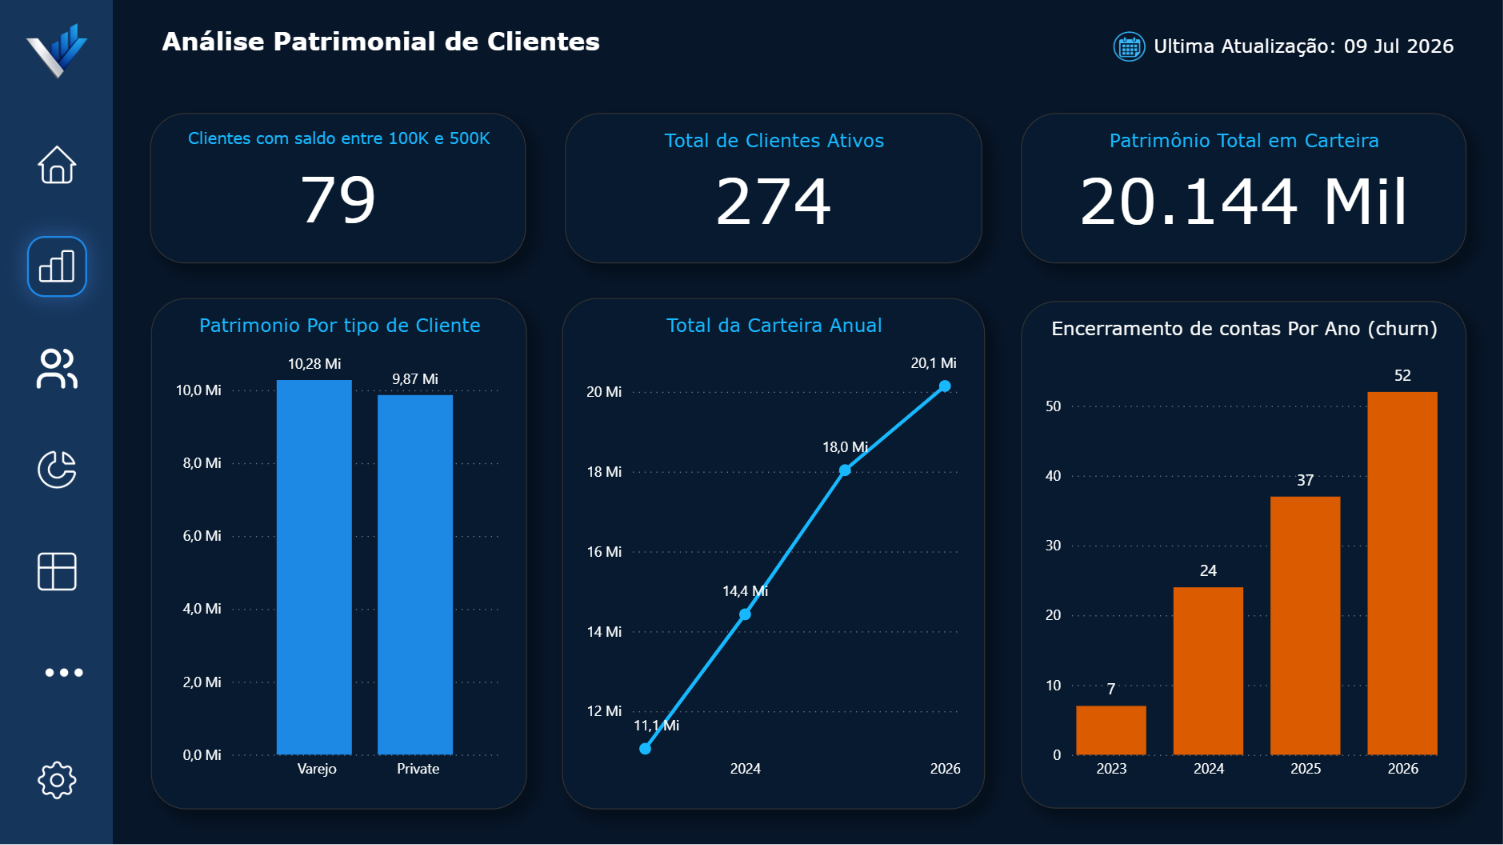

This screenshot's page, from the dashboard's own definition file:
{"tool":"powerbi","page":{"name":"Relatório","canvas":[1280,720],"ordinal":0},"visuals":[{"type":"card","title":"Total de Clientes Ativos","fields":{"Values":["saldos_mensais.Total_Clientes_Ativos"]},"box":[481,96,355,128],"z":0},{"type":"textbox","box":[127.5,11,414.4,49.8],"z":1000},{"type":"card","title":"Clientes com saldo entre 100K e 500K","fields":{"Values":["saldos_mensais.Clientes_100k_500k"]},"box":[128,96,320,128],"z":2000},{"type":"card","title":"Patrimônio Total em Carteira","fields":{"Values":["saldos_mensais.Patrimonio_Total_Atual"]},"box":[869,96,379,128],"z":3000},{"type":"columnChart","title":"Patrimonio Por tipo de Cliente","fields":{"Category":["clientes.tipo_cliente"],"Y":["saldos_mensais.Patrimonio_Total_Atual"]},"box":[128.2,253.4,320.1,435],"z":4000},{"type":"lineChart","title":"Total da Carteira Anual ","fields":{"Category":["saldos_mensais.Ano"],"Y":["saldos_mensais.Patrimonio_Fechamento_Ano"]},"box":[478.1,253.4,360.1,435],"z":5000},{"type":"columnChart","title":"Encerramento de contas Por Ano (churn)","fields":{"Category":["saldos_mensais.Ano"],"Y":["saldos_mensais.Qtd_Encerrados"]},"box":[869,256,379,432],"z":6000},{"type":"shape","box":[0,0,96,720],"z":7000},{"type":"image","box":[23.2,201,51.1,52.2],"z":8000},{"type":"image","box":[23.2,373.9,51,52],"z":9000},{"type":"image","box":[23.2,546.6,63,52],"z":10000},{"type":"image","box":[23.2,114.4,51.1,52.2],"z":11000},{"type":"image","box":[23.2,633,51,61],"z":12000},{"type":"image","box":[23.2,460.3,51,52],"z":13000},{"type":"image","box":[23.2,287.5,51,52],"z":14000},{"type":"textbox","box":[972,19,276,50],"z":15000},{"type":"image","box":[0,2.2,95.6,77.8],"z":16000},{"type":"image","box":[930.7,6.7,57.3,57.3],"z":17000}]}

Visuals, with their boxes on the page's 1280x720 design canvas (x1, y1, x2, y2). These are canvas units, not pixel positions in the 1503x845 screenshot, which may show the page scaled, cropped or inside an application window:
"Total de Clientes Ativos" card: detection(481, 96, 836, 224)
textbox: detection(128, 11, 542, 61)
"Clientes com saldo entre 100K e 500K" card: detection(128, 96, 448, 224)
"Patrimônio Total em Carteira" card: detection(869, 96, 1248, 224)
"Patrimonio Por tipo de Cliente" columnChart: detection(128, 253, 448, 688)
"Total da Carteira Anual " lineChart: detection(478, 253, 838, 688)
"Encerramento de contas Por Ano (churn)" columnChart: detection(869, 256, 1248, 688)
shape: detection(0, 0, 96, 720)
image: detection(23, 201, 74, 253)
image: detection(23, 374, 74, 426)
image: detection(23, 547, 86, 599)
image: detection(23, 114, 74, 167)
image: detection(23, 633, 74, 694)
image: detection(23, 460, 74, 512)
image: detection(23, 288, 74, 340)
textbox: detection(972, 19, 1248, 69)
image: detection(0, 2, 96, 80)
image: detection(931, 7, 988, 64)
